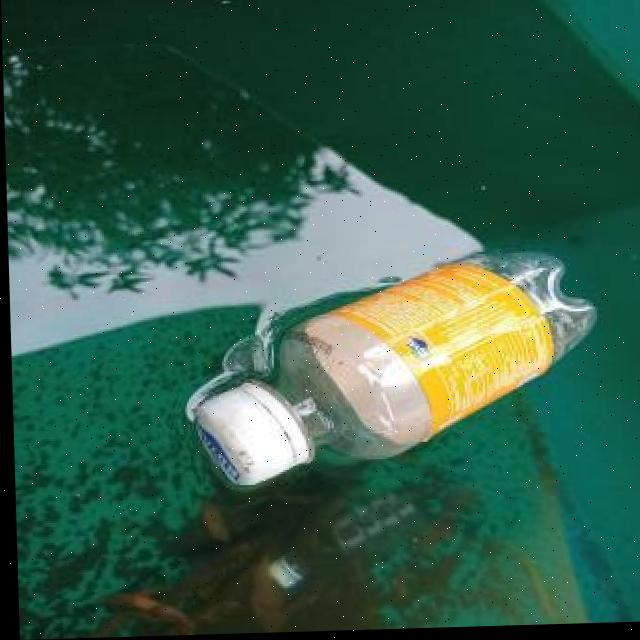bottle: (184, 247, 604, 493)
